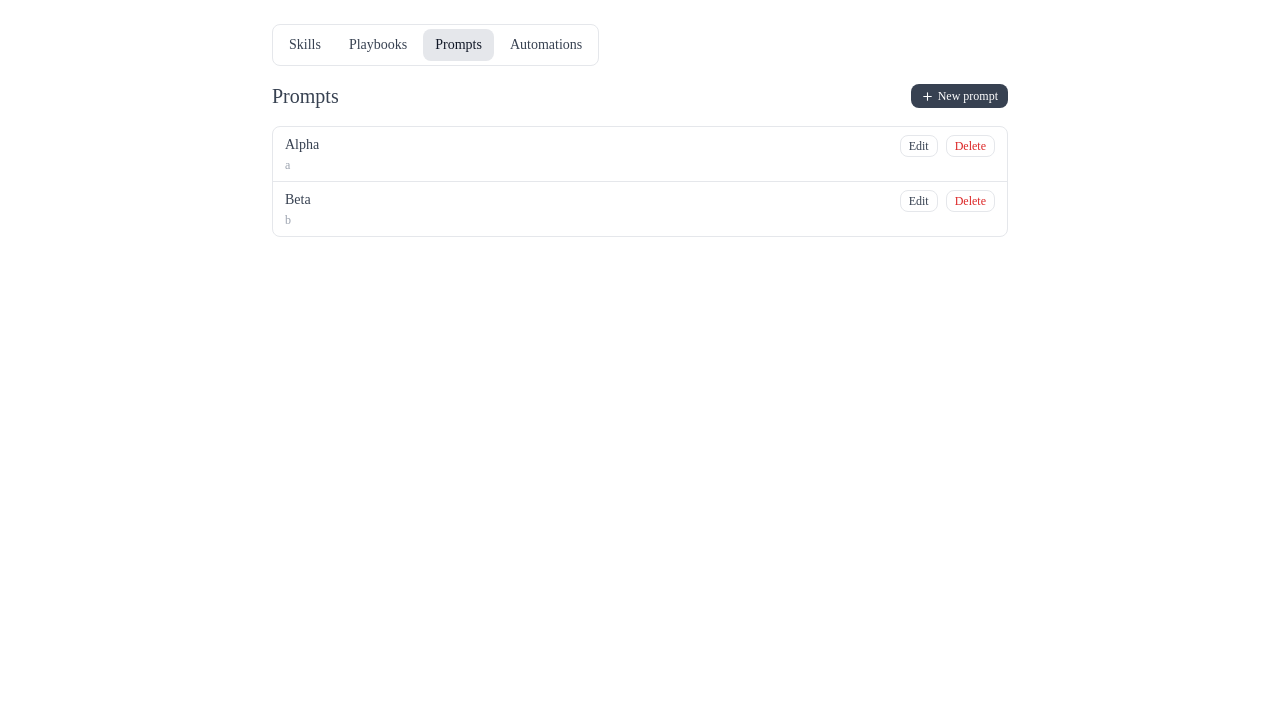
Test: /prompts index › opening edit on a row seeds the modal with that prompt
Click the button "Edit" in the row of "Beta" at [919, 201], box x1=900 y1=190 x2=938 y2=212
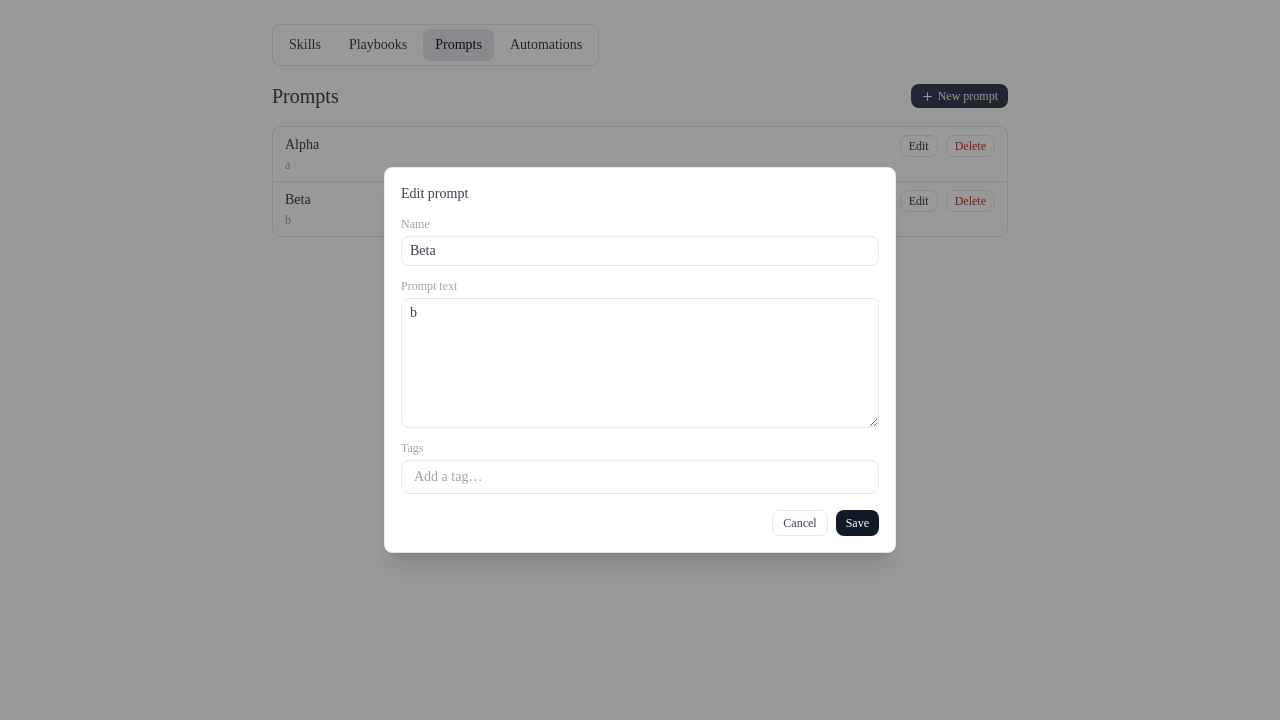
Check: the field labelled "Name" holds "Beta", box x1=401 y1=236 x2=879 y2=266
Check: the text box labelled "Prompt text" holds "b", box x1=401 y1=298 x2=879 y2=428
